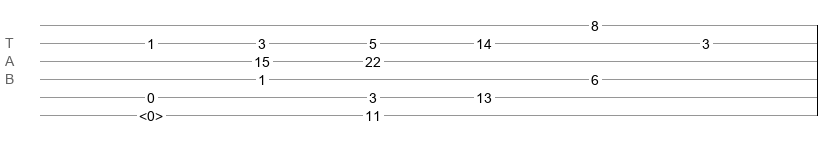0: (147, 90, 155, 100)
1: (147, 36, 155, 46), (258, 72, 266, 82)
11: (365, 108, 381, 118)
13: (476, 90, 492, 100)
14: (476, 36, 492, 46)
15: (254, 54, 270, 64)
22: (365, 54, 381, 64)
3: (258, 36, 266, 46), (369, 90, 377, 100), (702, 36, 710, 46)
5: (369, 36, 377, 46)
6: (591, 72, 599, 82)
8: (591, 18, 599, 28)
harmonic: (139, 108, 163, 118)
